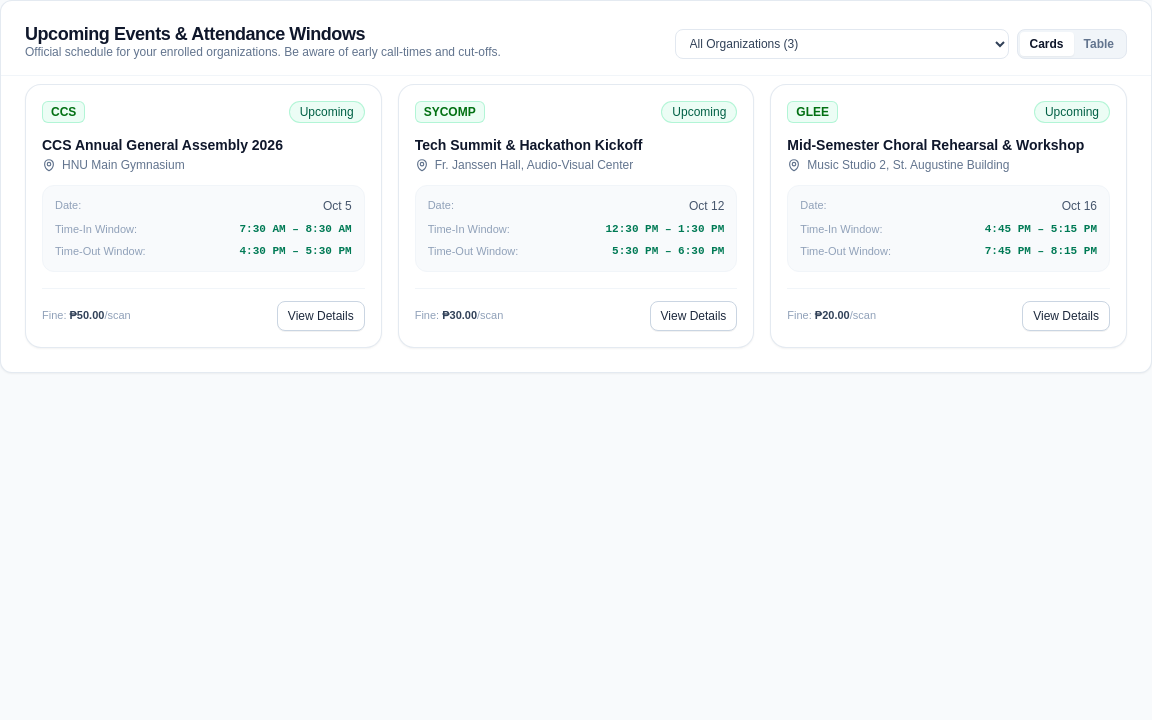
Test: StudentEventsFeed component › opens event details modal when clicking View Details
Click the button "View Details" in the row of "50.00" at (321, 316), box [277, 301, 365, 331]
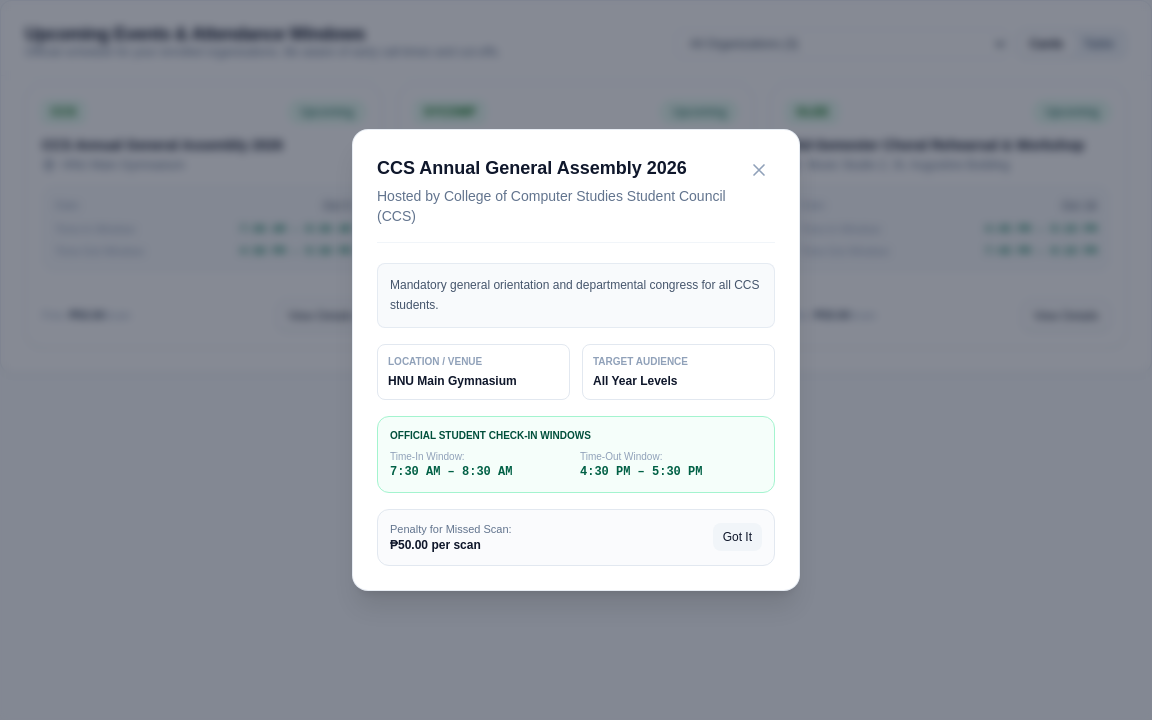
Expected: the text "Official Student Check-In Windows" is shown, [390, 430, 591, 440]
